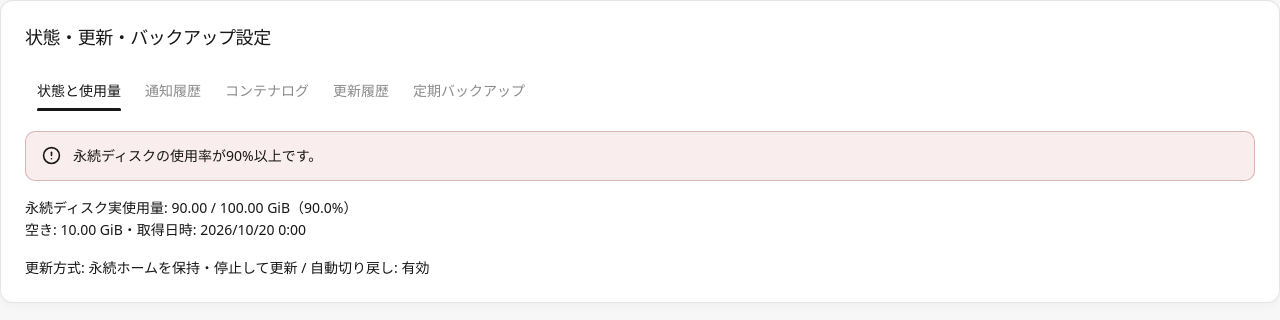
Test: FlashOperationsPanel › does not report a disabled policy when it cannot be retrieved
Click the tab "定期バックアップ": (469, 91) [401,71,537,111]
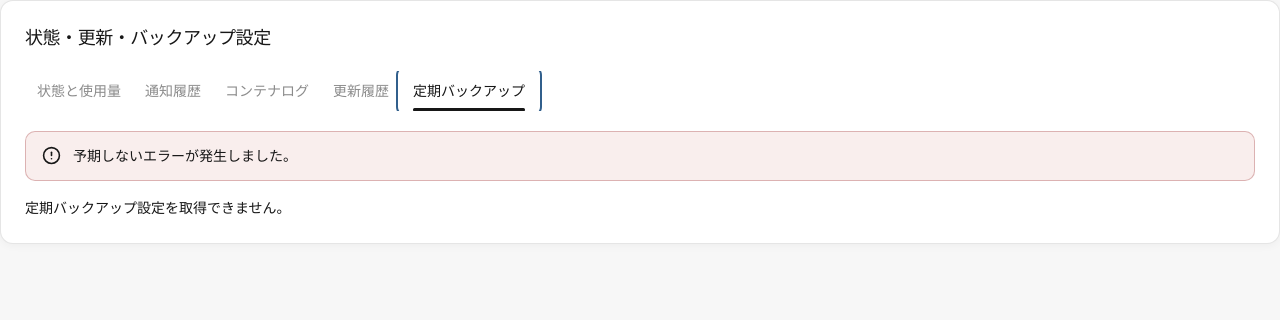
Result: the text "定期バックアップ設定を取得できません。" is shown at [25,198,291,217]
